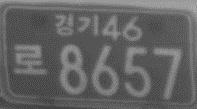4: (100, 14, 120, 42)
5: (123, 46, 152, 98)
6: (90, 44, 119, 97), (122, 14, 142, 42)
7: (153, 46, 182, 100)
8: (58, 43, 88, 96)
경기_O: (54, 12, 99, 37)
로: (12, 43, 47, 76)
